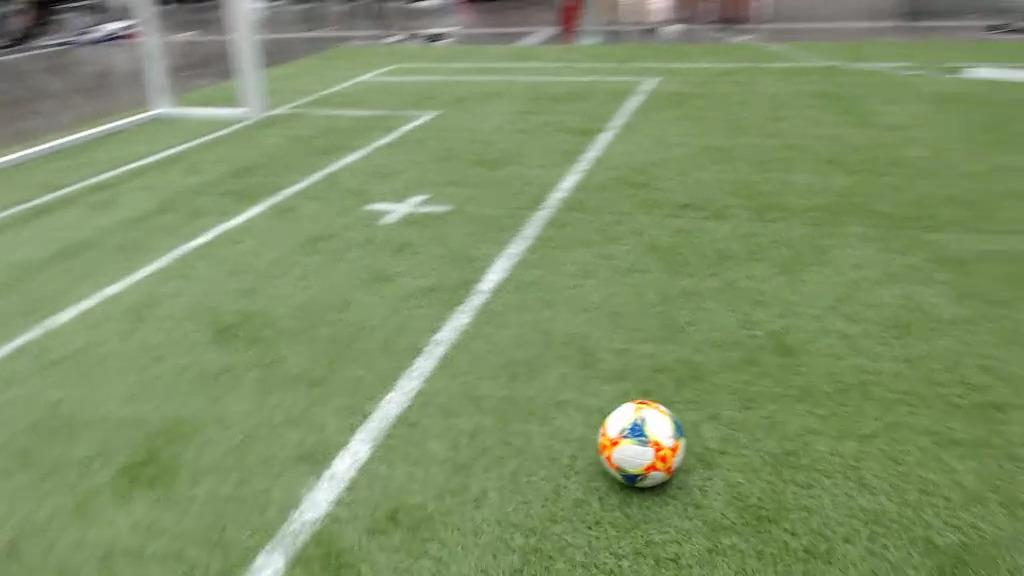ball: (598, 398, 686, 487)
